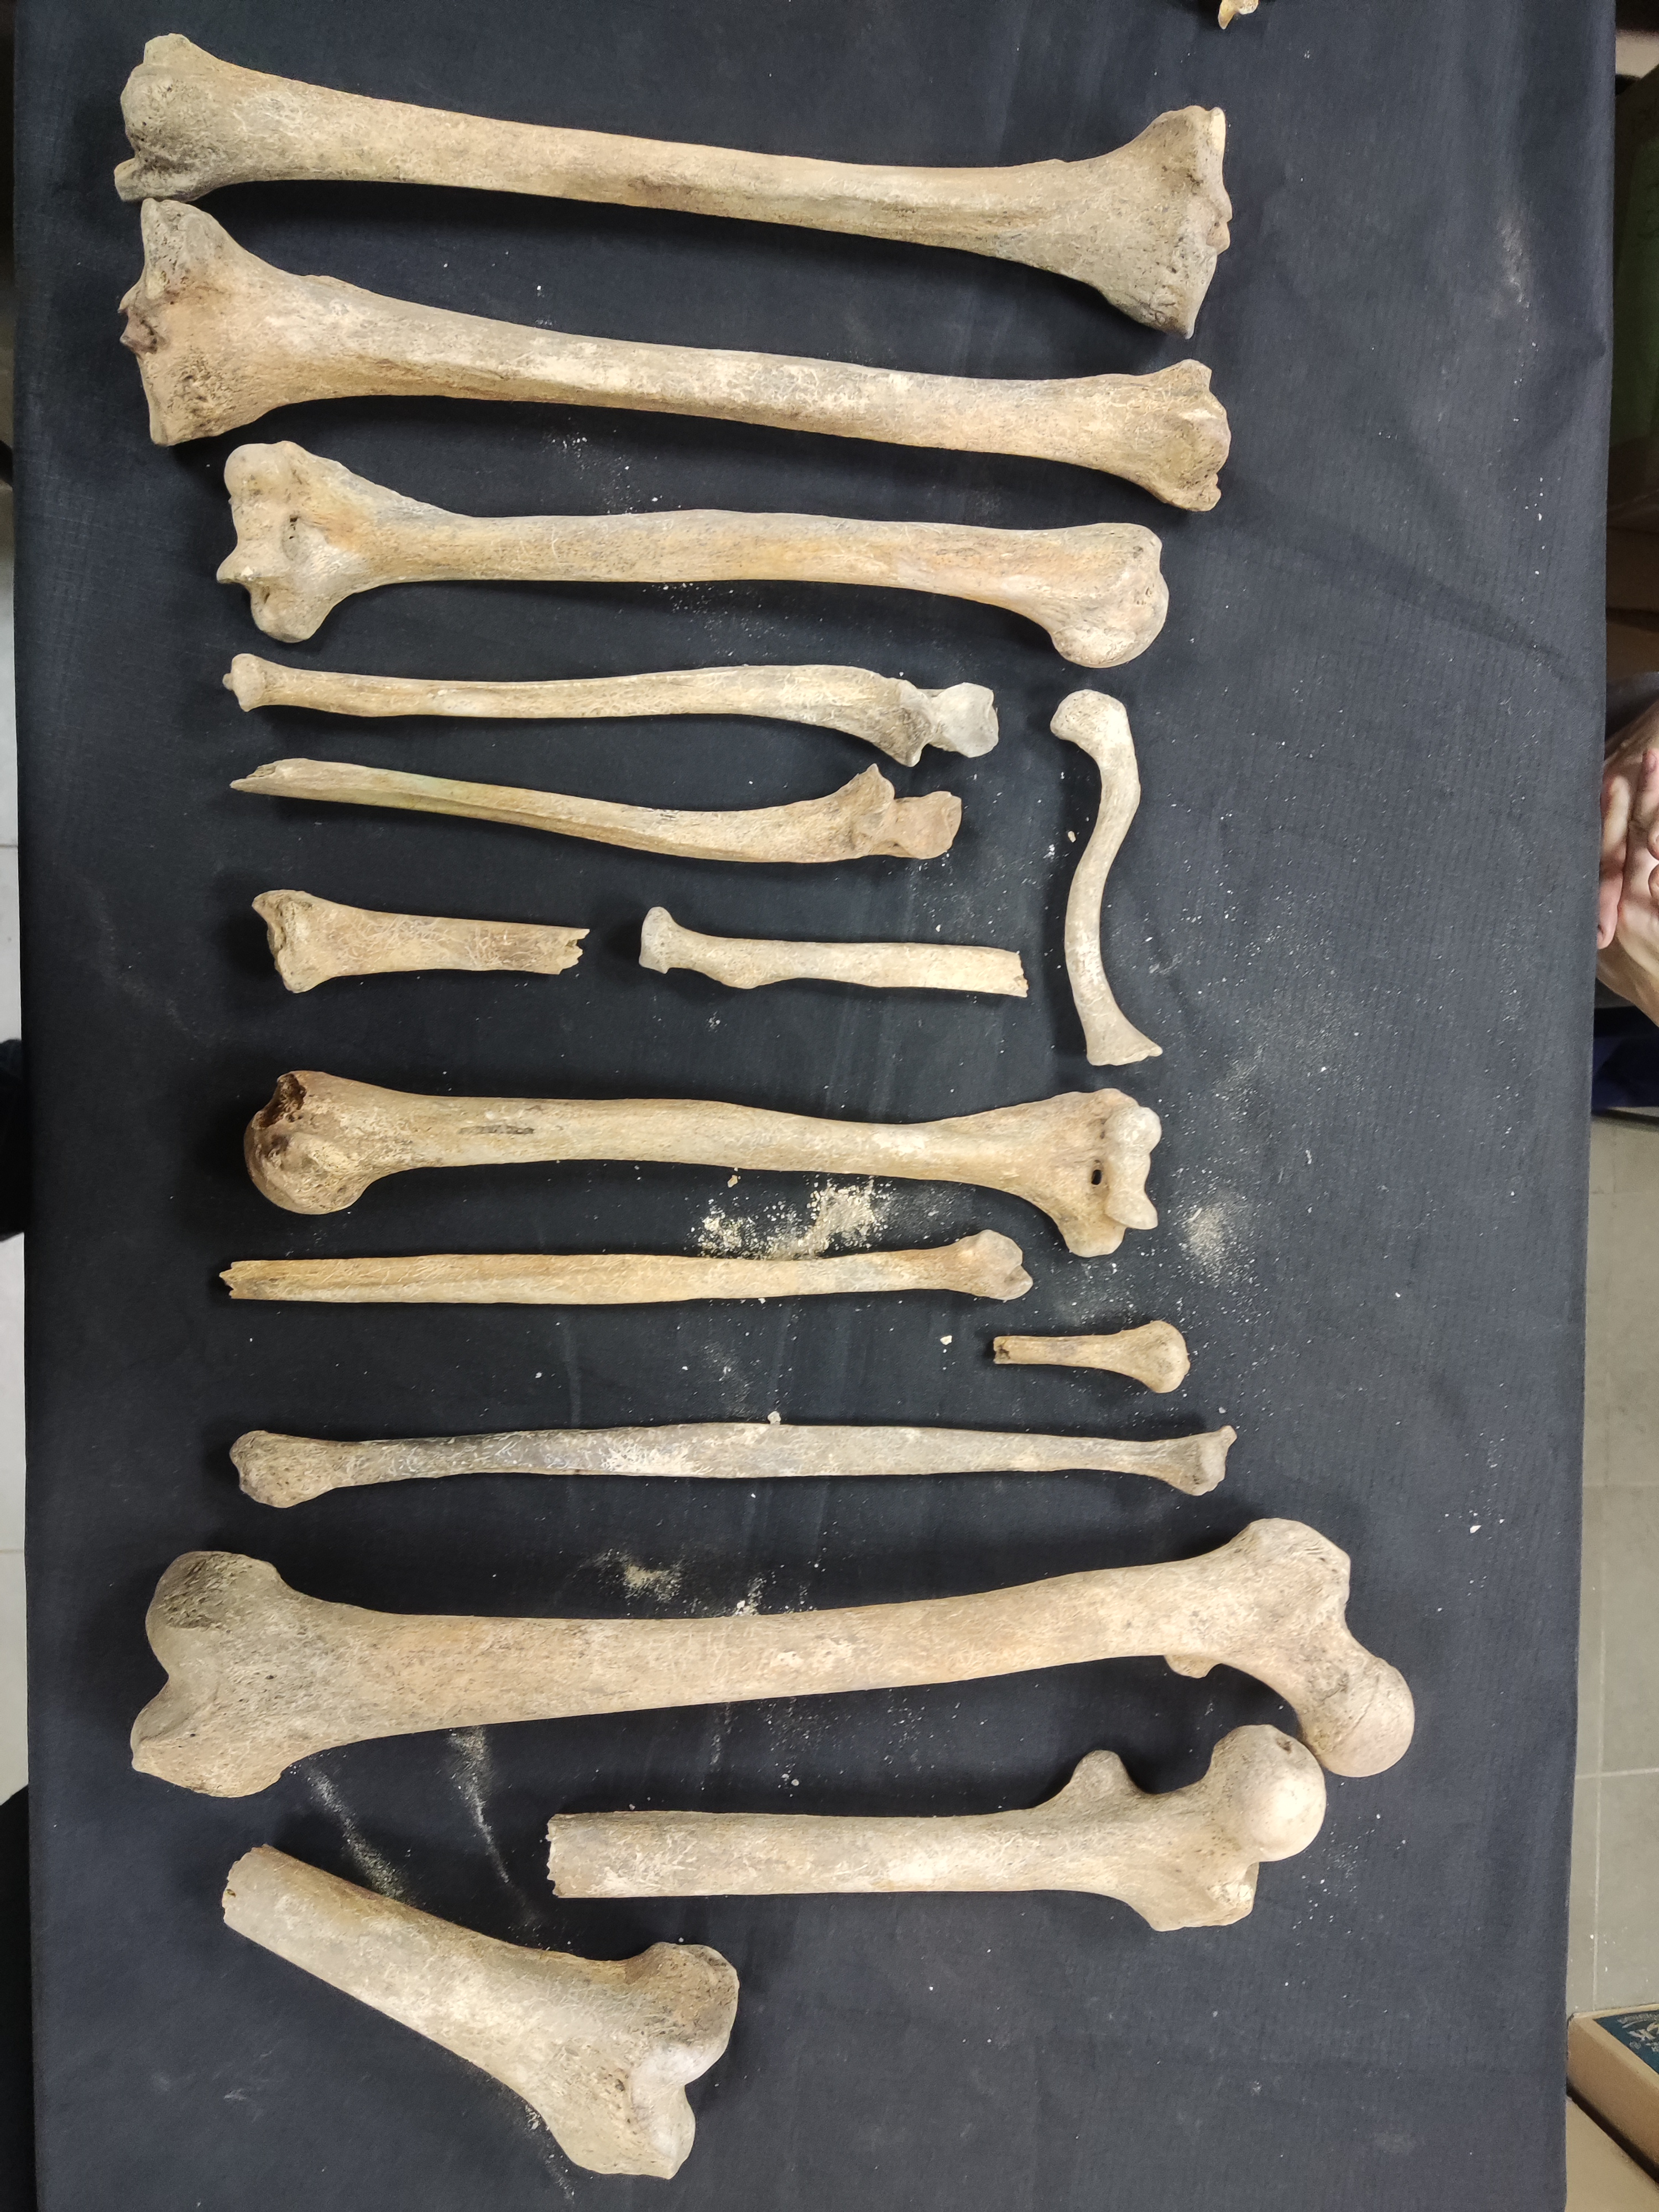бедренная: (120, 1514, 1419, 1792), (216, 1843, 741, 2177), (540, 1724, 1328, 1932)
большеберцовая: (120, 192, 1230, 507), (118, 33, 1236, 343)
ключица: (1047, 685, 1168, 1062)
локтевая: (221, 650, 1000, 759), (228, 758, 967, 859)
лучевая: (247, 887, 589, 995)
малоберцовая: (225, 1421, 1239, 1507), (218, 1231, 1035, 1299), (638, 909, 1033, 1005), (993, 1320, 1187, 1393)
плечевая: (211, 439, 1169, 669), (235, 1061, 1164, 1259)
